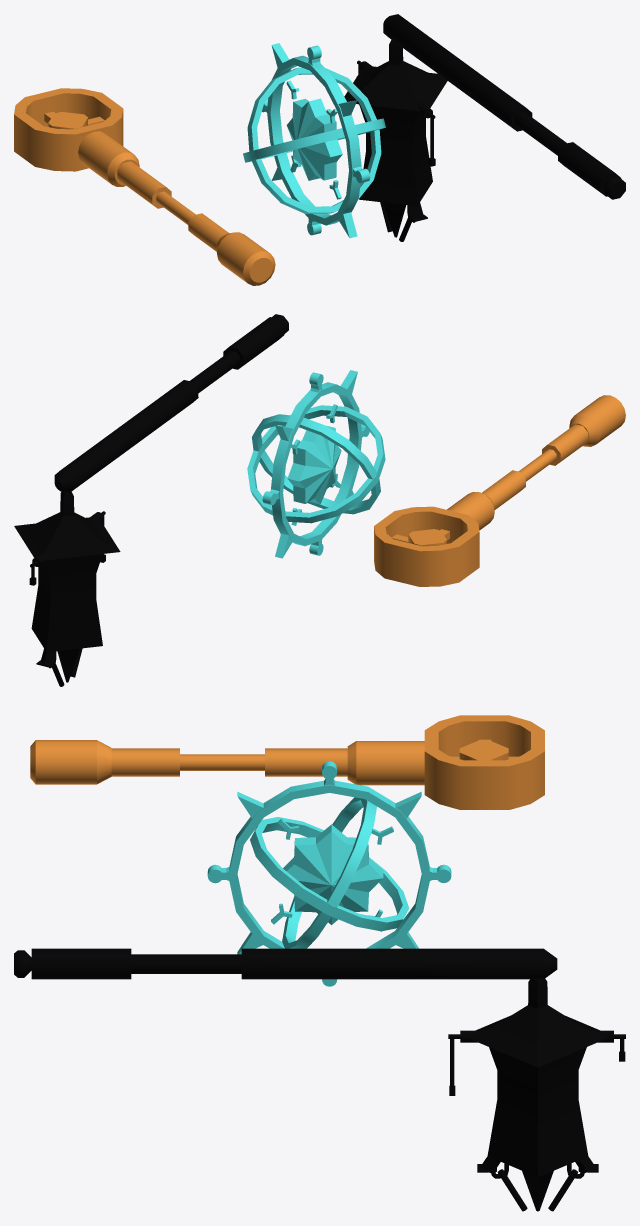
Rendered from PUCK_Weapon4.fbx.
The picture shows the model from 3 angles, top to bottom: view 1: azimuth 30°, elevation 25°; view 2: azimuth 150°, elevation 25°; view 3: azimuth 270°, elevation 25°; orthographic projection. The views are drawn at different scales.
Visible parts, largest first — view 1: Flame, Frost, FlameWand; view 2: Flame, Frost, FlameWand; view 3: Flame, FlameWand, Frost.
Boxes of the visible parts, box(x1,y1,x2,y2) form: Flame: box(344, 14, 625, 241); Frost: box(243, 43, 385, 238); FlameWand: box(14, 88, 275, 285); Flame: box(14, 314, 288, 686); Frost: box(247, 370, 385, 558); FlameWand: box(374, 395, 625, 586); Flame: box(14, 948, 625, 1211); FlameWand: box(30, 715, 544, 809); Frost: box(207, 761, 451, 986).
Bounding box in the file's own units: 148 × 93.41 × 148.
